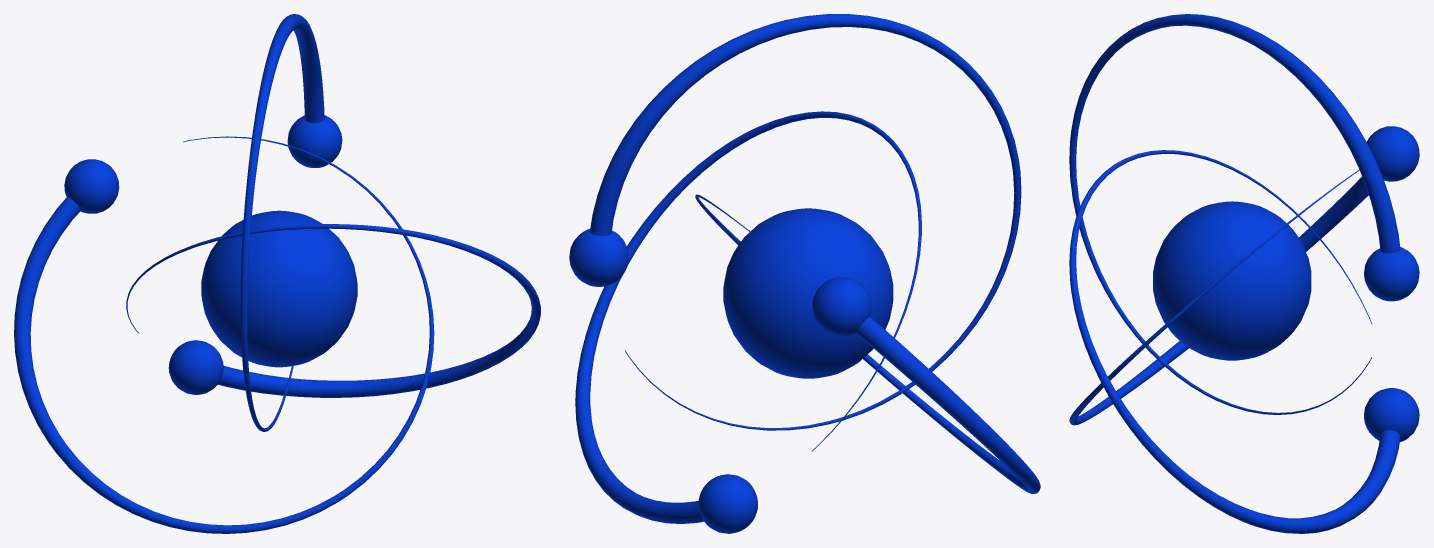
The model's file is atom1.fbx.
The picture shows the model from 3 angles, left to right: view 1: azimuth 30°, elevation 25°; view 2: azimuth 150°, elevation 25°; view 3: azimuth 270°, elevation 25°; orthographic projection. The views are drawn at different scales.
Parts seen in each view (by area): view 1: atom_02_quads_:Sphere_4; view 2: atom_02_quads_:Sphere_4; view 3: atom_02_quads_:Sphere_4.
Part boxes in pixels (<box>): atom_02_quads_:Sphere_4: <box>14,14,540,533</box>; atom_02_quads_:Sphere_4: <box>569,14,1040,533</box>; atom_02_quads_:Sphere_4: <box>1069,14,1419,533</box>.
Bounding box in the file's own units: 500 × 467 × 336.
